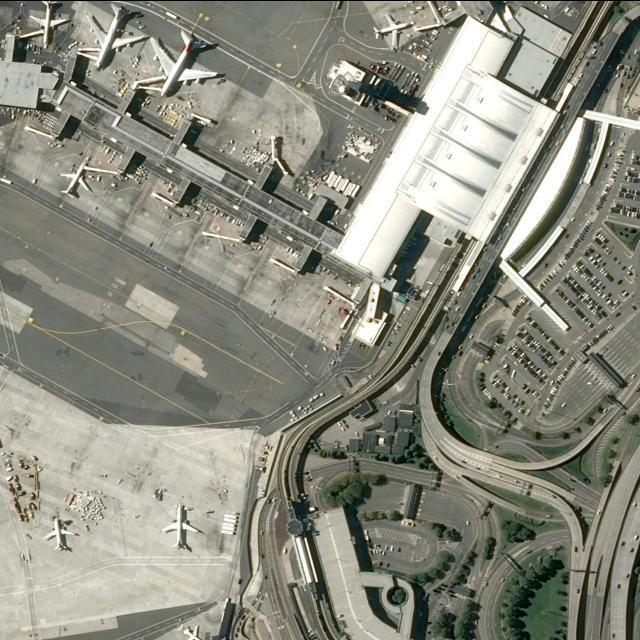Aircraft: (151, 29, 224, 101), (89, 0, 147, 70), (28, 0, 72, 48), (163, 503, 205, 551), (374, 13, 414, 47), (61, 159, 95, 199), (44, 516, 80, 550), (181, 625, 205, 640)
